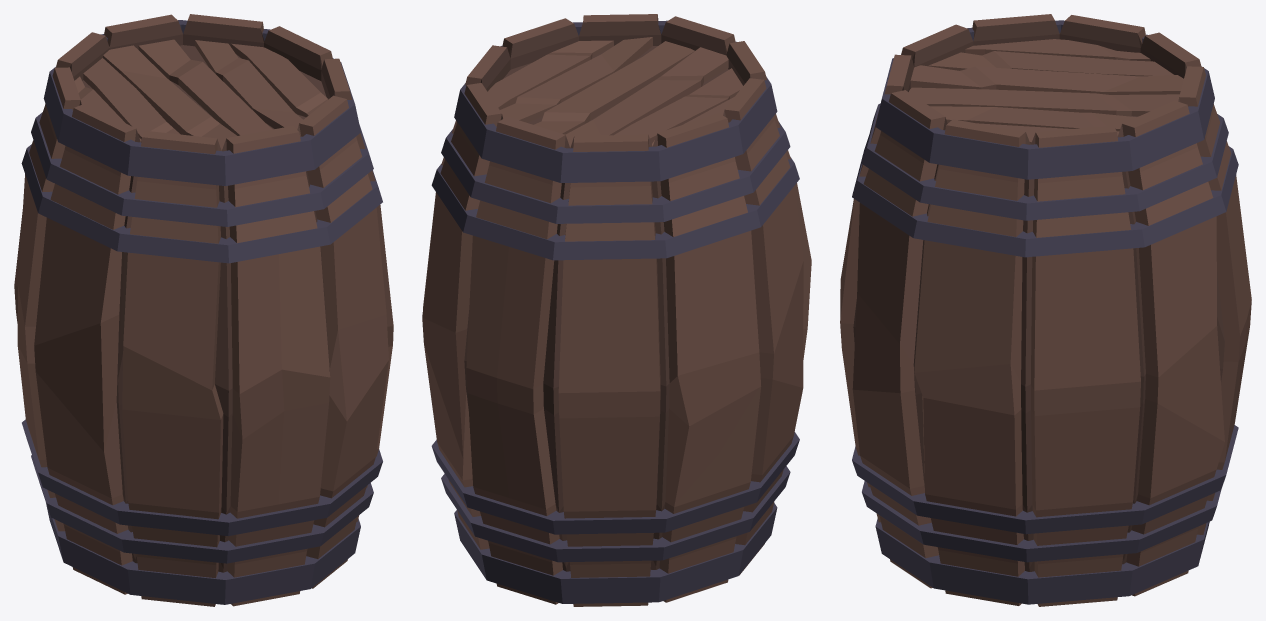
File: chamber_barrel_2_lev3.glb
3 views of the same model, side by side, from view 1: azimuth 30°, elevation 25°; view 2: azimuth 150°, elevation 25°; view 3: azimuth 270°, elevation 25° (orthographic).
Parts seen in each view (by area): view 1: chamber_barrel_2_lev3; view 2: chamber_barrel_2_lev3; view 3: chamber_barrel_2_lev3.
Boxes of the visible parts, x1,y1,x2,y2 form: chamber_barrel_2_lev3: [14, 14, 393, 606]; chamber_barrel_2_lev3: [422, 14, 811, 606]; chamber_barrel_2_lev3: [840, 14, 1251, 606].
Bounding box in the file's own units: 1.4 × 1.91 × 1.51.
